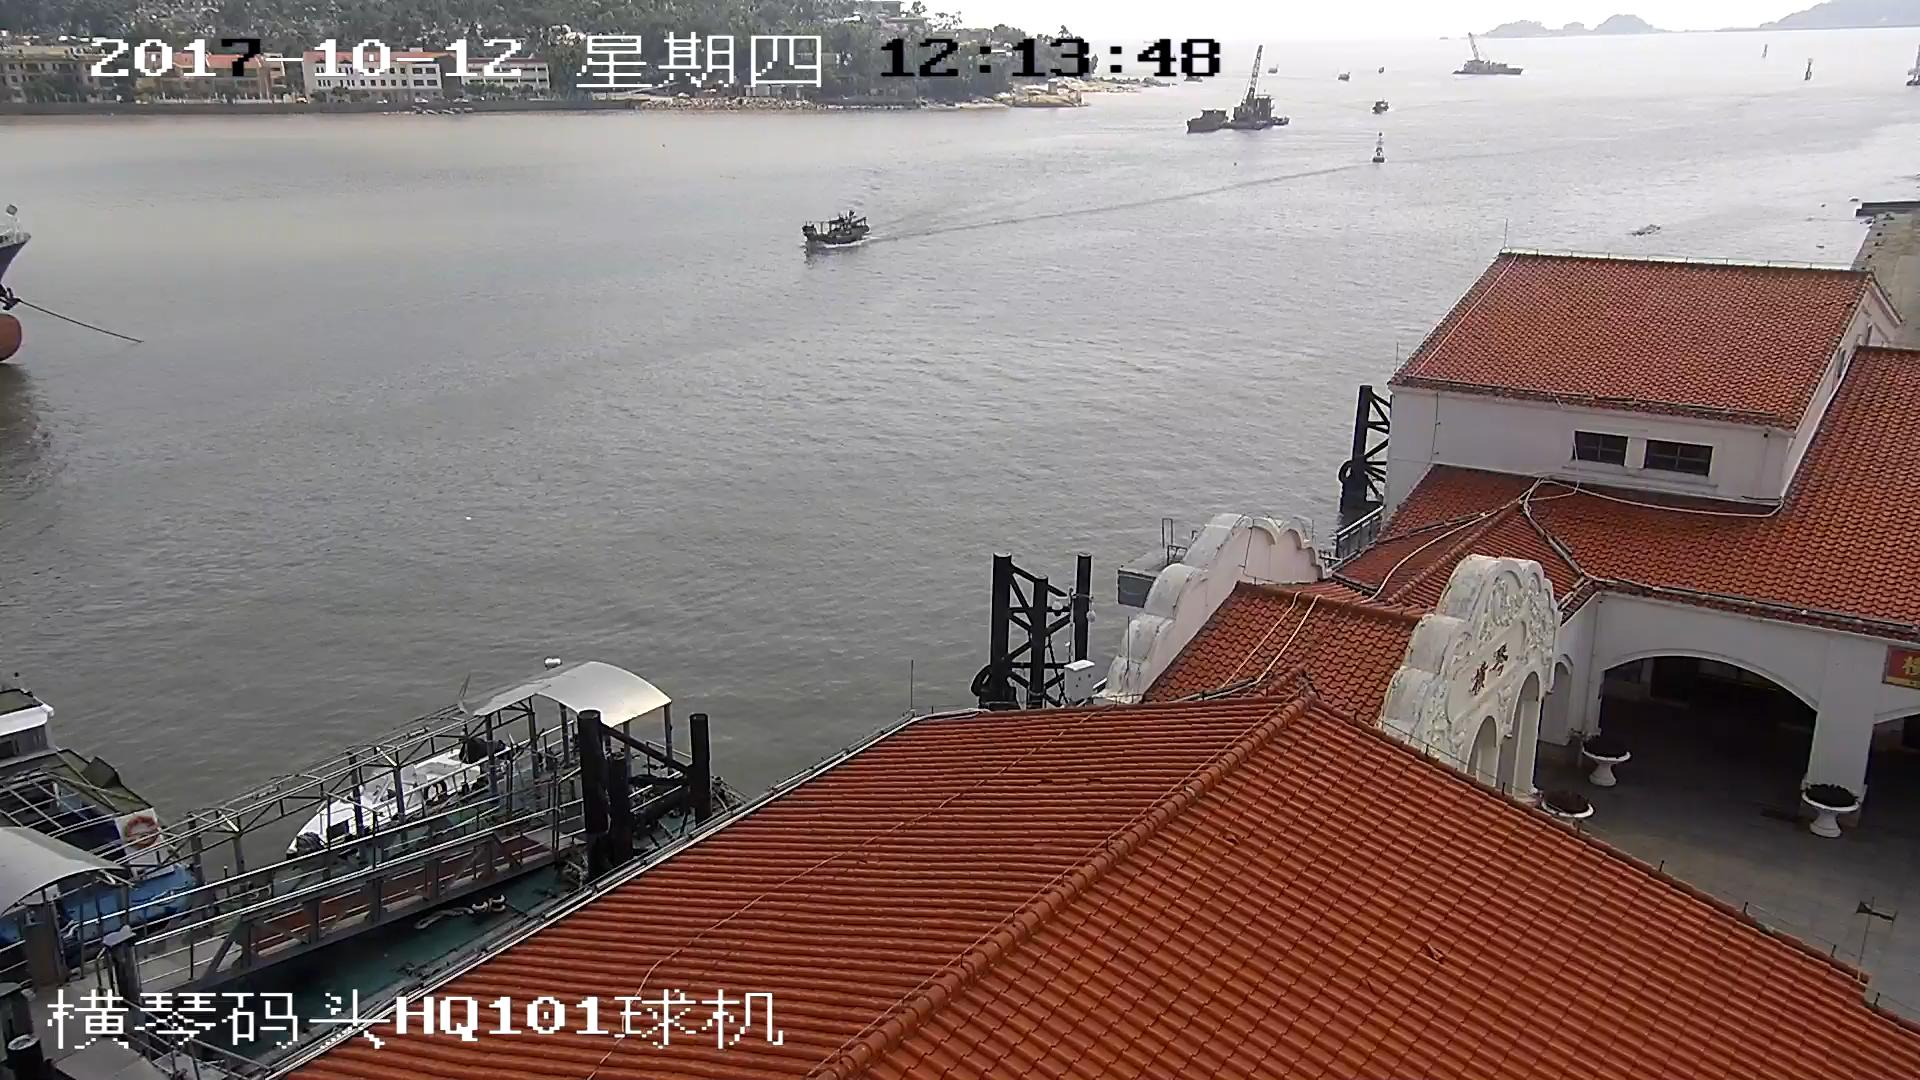fishing boat: (798, 217, 868, 251)
